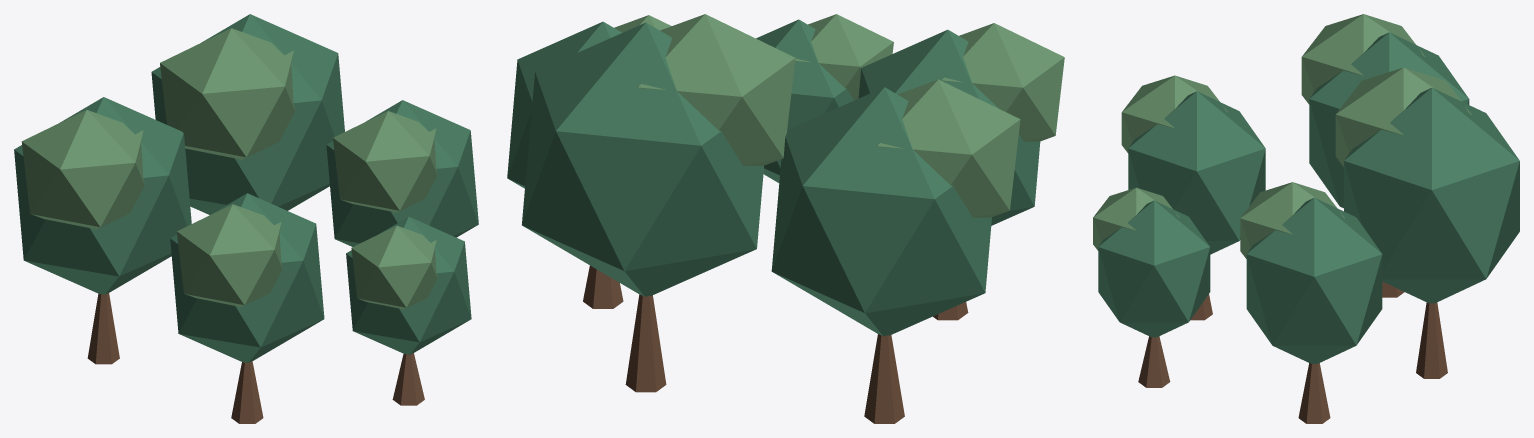
The model's file is woodland.glb.
3 renders of one model, left to right at view 1: azimuth 30°, elevation 25°; view 2: azimuth 150°, elevation 25°; view 3: azimuth 270°, elevation 25°, orthographic. The views are drawn at different scales.
Parts seen in each view (by area): view 1: Icosphere.024, Icosphere.026, Icosphere.027, Icosphere.030, Icosphere.025, Icosphere.028, Icosphere.031, Icosphere.029, Icosphere.032, Icosphere.033, Cone.016, Cone.019 (+1 smaller); view 2: Icosphere.026, Icosphere.024, Icosphere.027, Icosphere.025, Icosphere.031, Icosphere.030, Icosphere.032, Icosphere.028, Icosphere.033, Cone.017, Cone.016, Cone.018; view 3: Icosphere.026, Icosphere.028, Icosphere.030, Icosphere.032, Icosphere.024, Icosphere.027, Icosphere.025, Icosphere.031, Icosphere.029, Icosphere.033, Cone.017, Cone.018 (+1 smaller).
Part boxes in pixels (x1,y1,x2,y2): Icosphere.024: (14, 97, 191, 294); Icosphere.026: (151, 14, 344, 214); Icosphere.027: (160, 28, 295, 159); Icosphere.030: (170, 193, 324, 362); Icosphere.025: (21, 110, 144, 229); Icosphere.028: (326, 100, 478, 246); Icosphere.031: (177, 204, 282, 307); Icosphere.029: (333, 111, 437, 212); Icosphere.032: (346, 216, 471, 354); Icosphere.033: (351, 225, 437, 309); Cone.016: (87, 293, 119, 364); Cone.019: (231, 361, 263, 423); Icosphere.026: (522, 22, 763, 296); Icosphere.024: (771, 87, 991, 336); Icosphere.027: (637, 14, 795, 165); Icosphere.025: (877, 79, 1020, 217); Icosphere.031: (941, 23, 1064, 141); Icosphere.030: (858, 29, 1040, 225); Icosphere.032: (756, 19, 853, 182); Icosphere.028: (507, 21, 621, 188); Icosphere.033: (795, 14, 893, 100); Cone.017: (625, 294, 666, 392); Cone.016: (864, 334, 904, 423); Cone.018: (583, 265, 623, 308); Icosphere.026: (1344, 88, 1519, 303); Icosphere.028: (1246, 197, 1382, 363); Icosphere.030: (1128, 91, 1265, 254); Icosphere.032: (1098, 200, 1210, 337); Icosphere.024: (1309, 32, 1469, 208); Icosphere.027: (1335, 67, 1471, 166); Icosphere.025: (1301, 14, 1425, 104); Icosphere.031: (1121, 75, 1227, 153); Icosphere.029: (1240, 182, 1344, 258); Icosphere.033: (1093, 187, 1179, 250); Cone.017: (1416, 302, 1447, 378); Cone.018: (1298, 363, 1330, 423).
Size of the model in its own units: 2.23 by 1.5 by 2.
